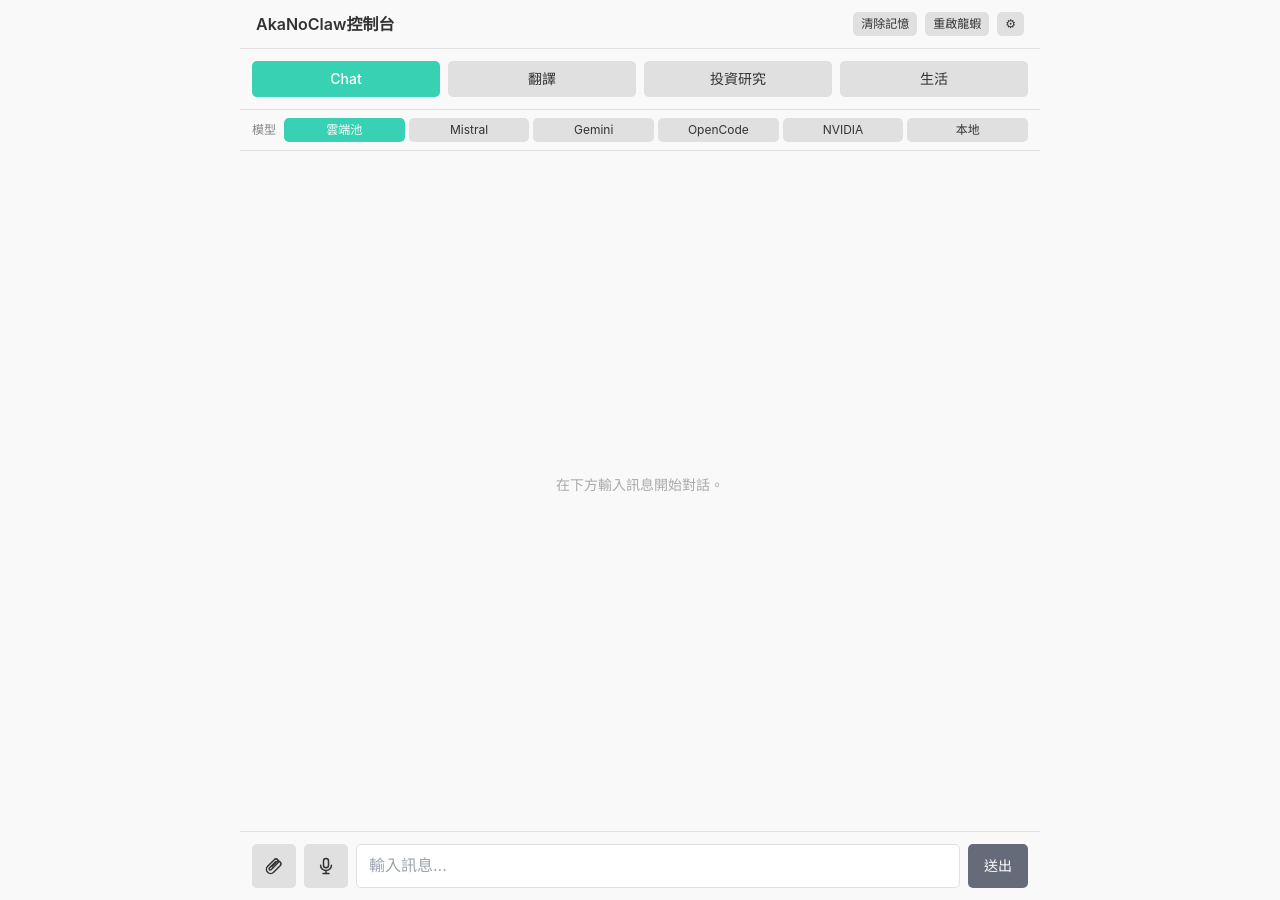
App — chat settings › shows local reload success after saving a new local model
Click the button named "聊天模型設定".
click(1011, 24)  # box left=997, top=12, right=1024, bottom=36
(page scrolled)
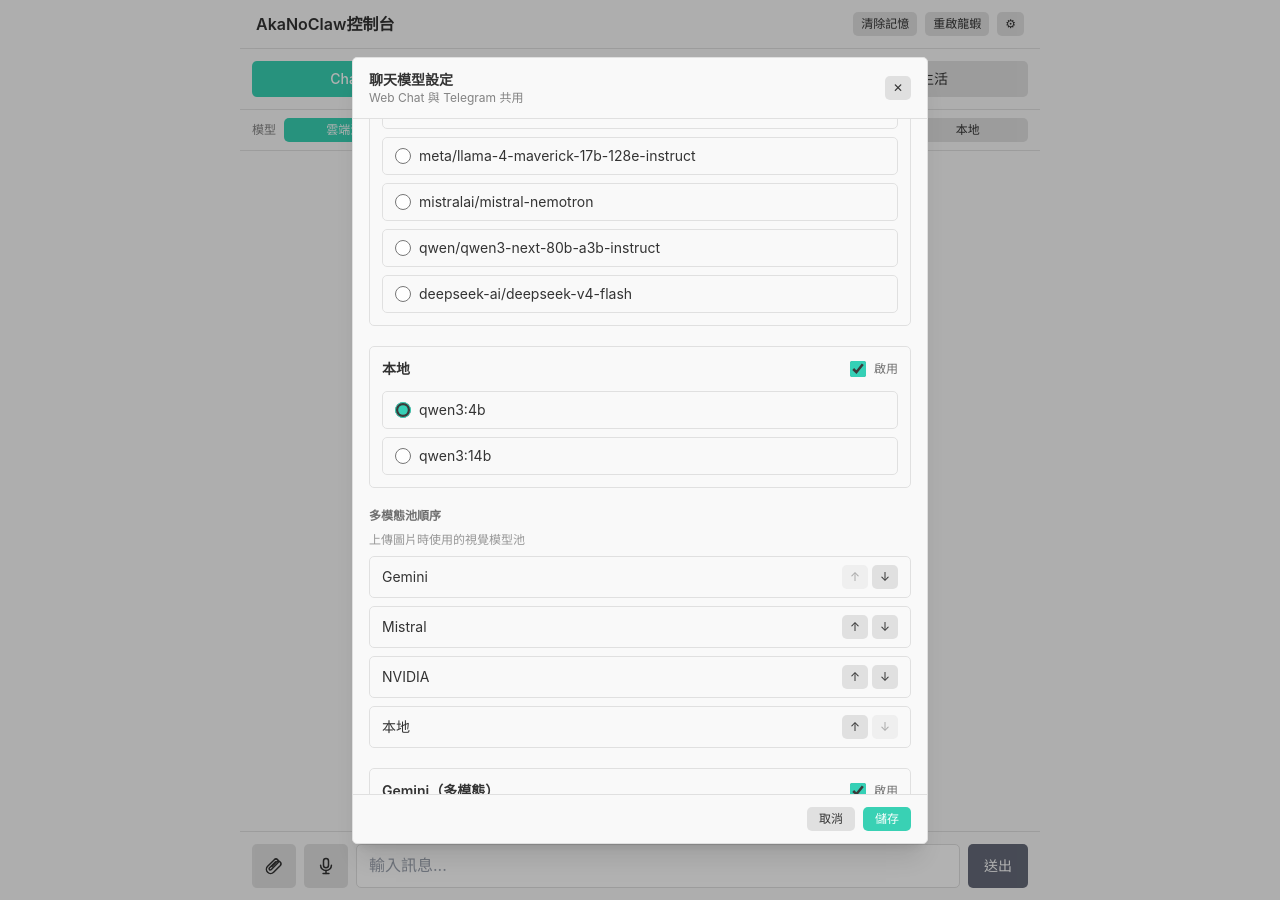
Expected: the heading "聊天模型設定" is shown, left=369, top=70, right=453, bottom=88
Click the radio button labelled "qwen3:14b".
click(403, 456)  # box left=395, top=448, right=411, bottom=464
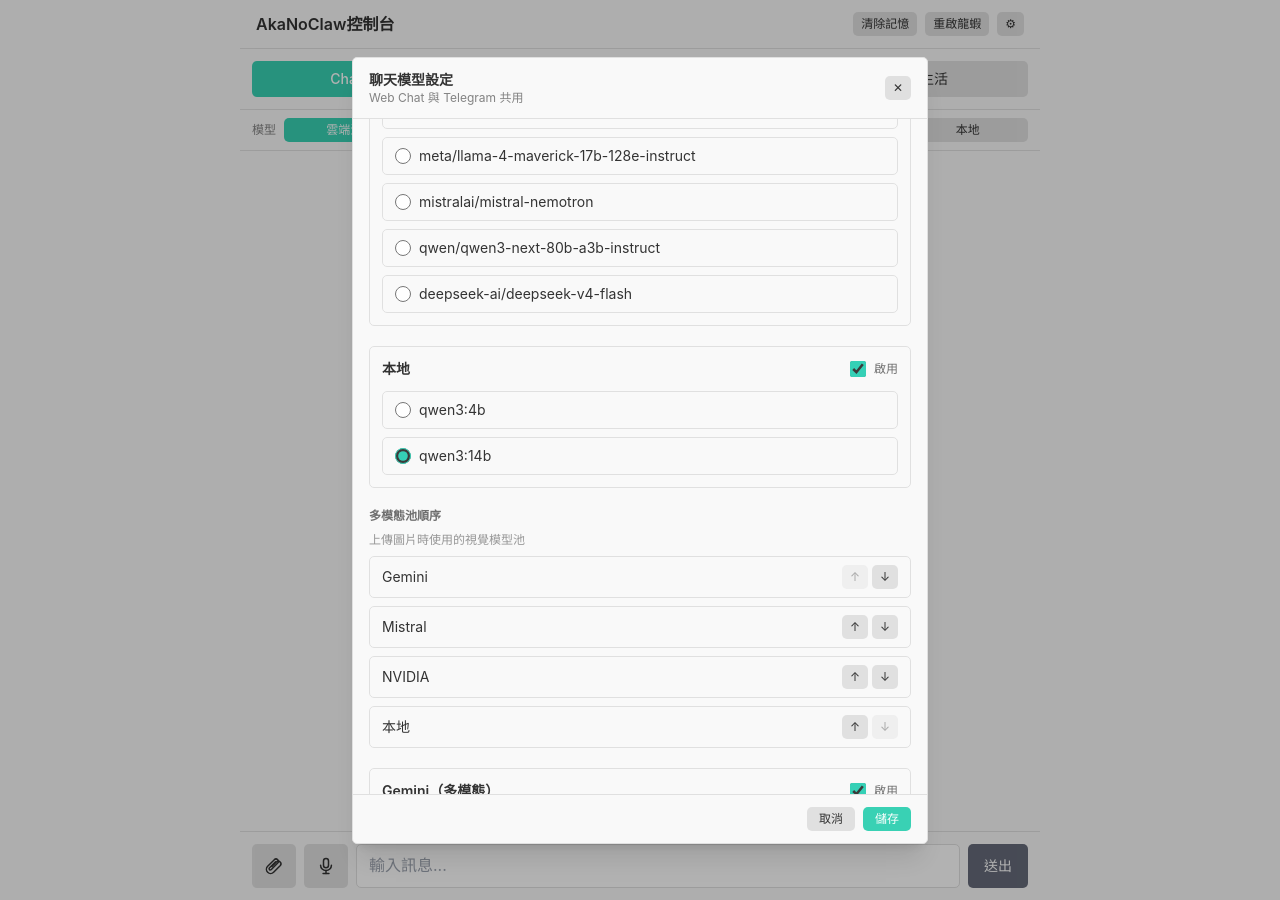
Click the button "儲存".
click(887, 818)  # box left=863, top=806, right=911, bottom=830
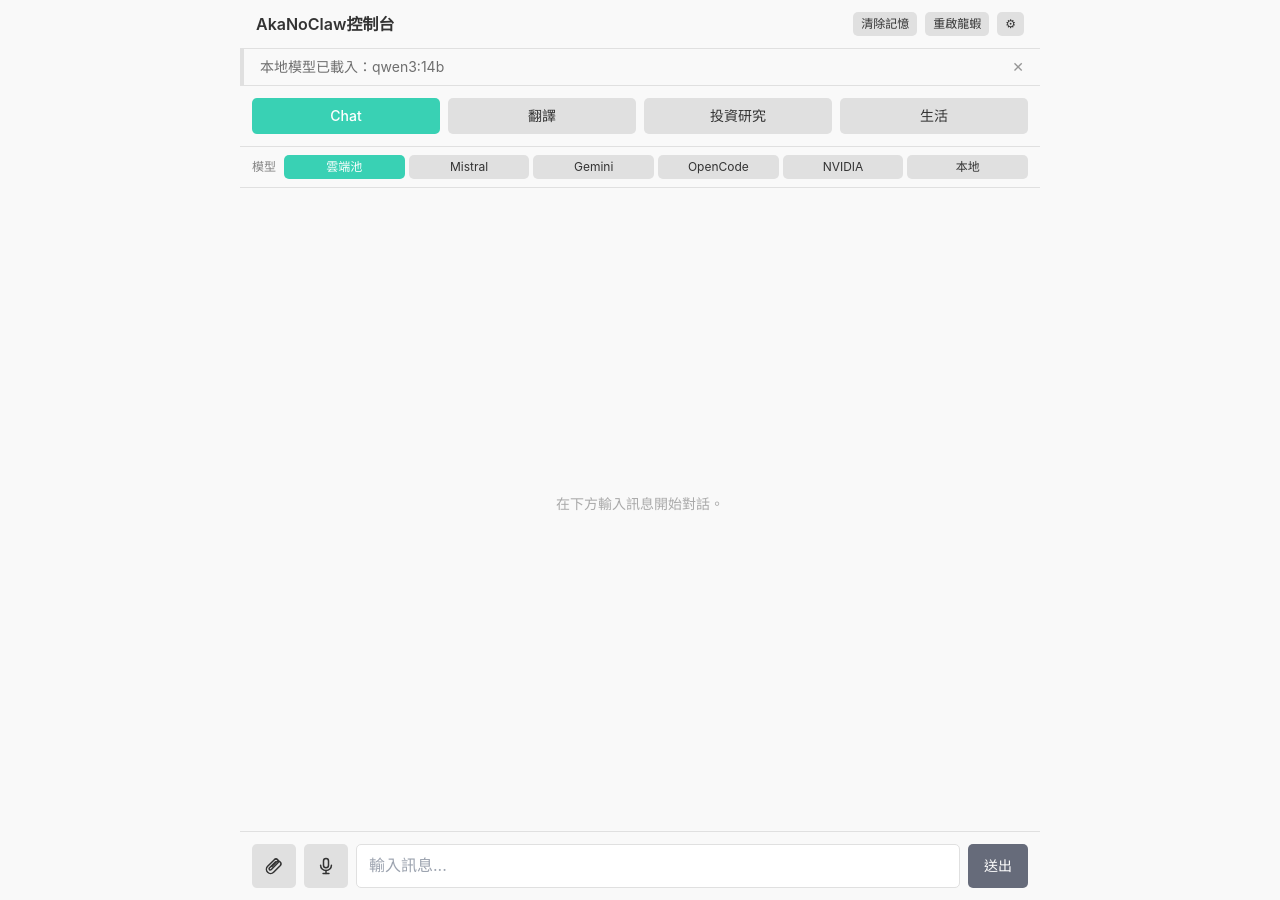
Expected: the text "本地模型已載入：qwen3:14b" is shown, left=260, top=57, right=444, bottom=77
